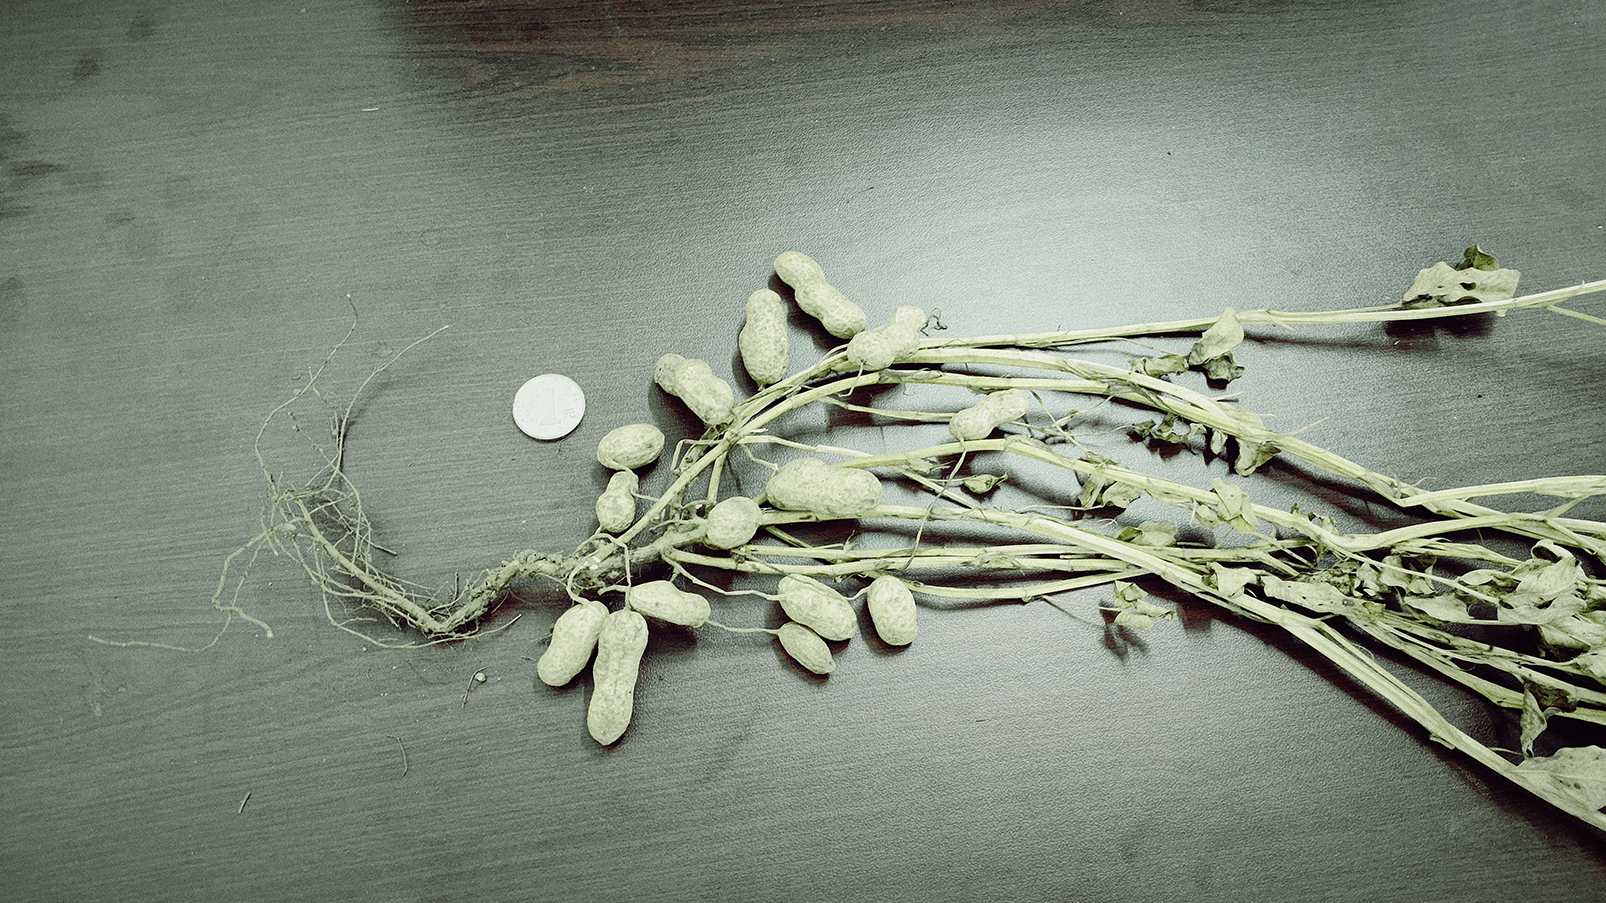h: (588, 610, 650, 746), (773, 249, 865, 338), (765, 458, 882, 515), (536, 601, 609, 690), (654, 353, 732, 424), (779, 571, 857, 641), (736, 289, 791, 385), (849, 304, 928, 370), (949, 388, 1030, 442), (627, 580, 711, 628), (867, 576, 919, 649), (777, 623, 837, 677), (595, 423, 666, 466), (595, 471, 640, 533), (708, 497, 761, 548)
